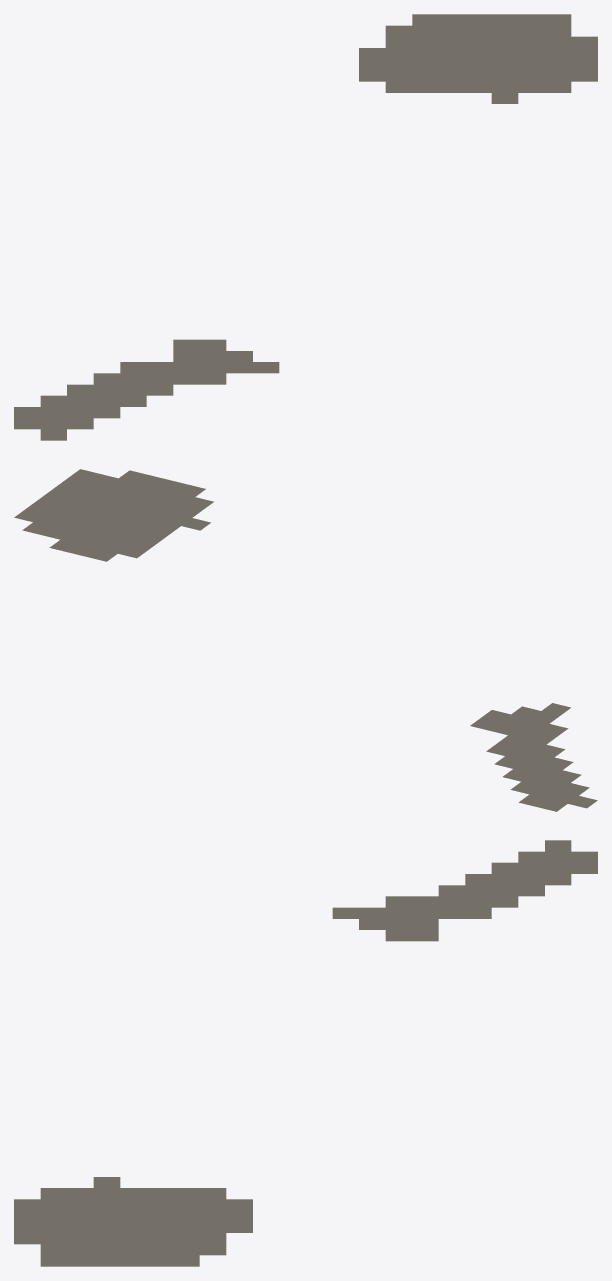
Rendered from Isl-atoll2-RocksArea.fbx.
3 views of the same model, one above another, from view 1: azimuth 90°, elevation 25°; view 2: azimuth 150°, elevation 25°; view 3: azimuth 270°, elevation 25° (orthographic). The views are drawn at different scales.
Visible parts, largest first — view 1: Isl-atoll2-RocksArea; view 2: Isl-atoll2-RocksArea; view 3: Isl-atoll2-RocksArea.
Part boxes in pixels (x1,y1,x2,y2): Isl-atoll2-RocksArea: (14,14,597,440); Isl-atoll2-RocksArea: (14,469,597,811); Isl-atoll2-RocksArea: (14,840,597,1266).
Bounding box in the file's own units: 38 × 0 × 22.
